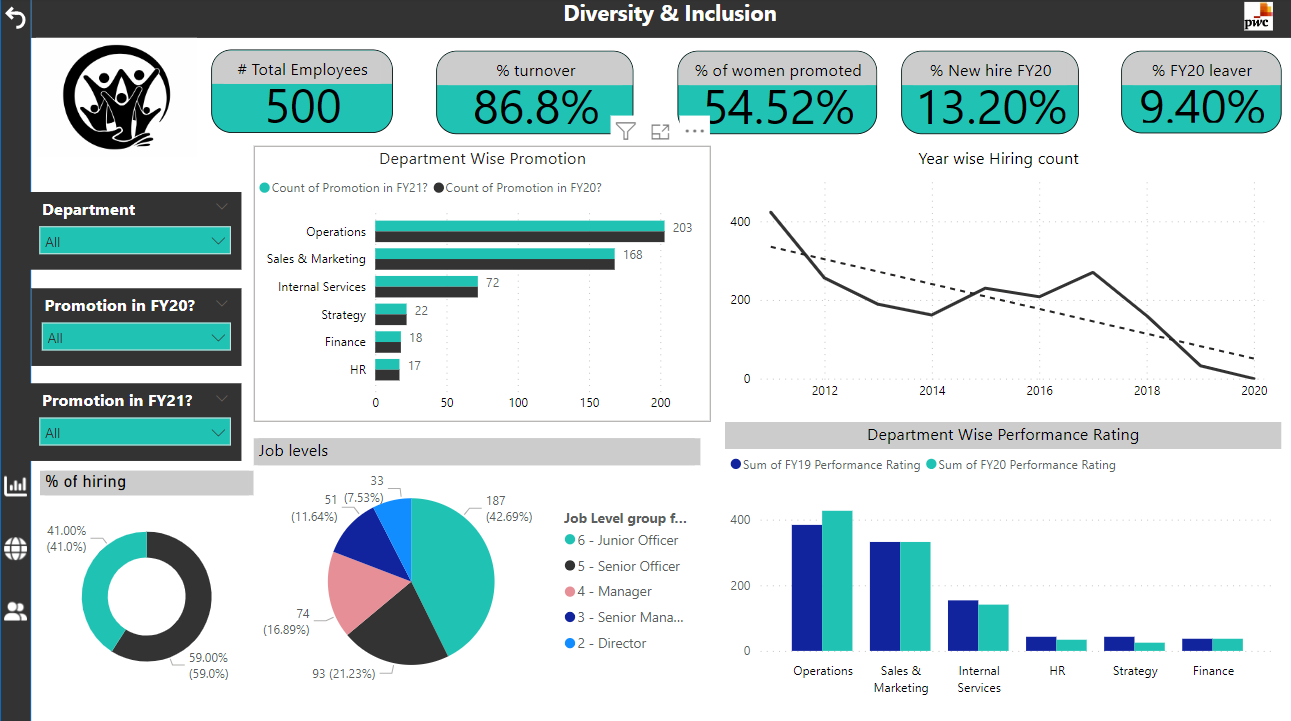

Layout of this report page (visuals, bound fields, positions):
{"tool":"powerbi","page":{"name":"Dashboard","canvas":[1280,720],"ordinal":0},"visuals":[{"type":"shape","box":[0,0,30.6,720],"z":0},{"type":"clusteredColumnChart","title":"Department Wise Performance Rating","fields":{"Category":["Pharma Group AG.Department @01.07.2020"],"Y":["Sum(Pharma Group AG.FY19 Performance Rating)","Sum(Pharma Group AG.FY20 Performance Rating)"]},"box":[709,415.6,544,275],"z":1000},{"type":"card","title":"% FY20 leaver","fields":{"Values":["Measure.% FY20 leaver"]},"box":[1096.5,52.6,156.5,80.7],"z":2000},{"type":"card","title":"% New hire FY20","fields":{"Values":["Measure.% New hire FY20"]},"box":[881.4,52.6,173.6,81.9],"z":3000},{"type":"lineChart","title":"Year wise Hiring count","fields":{"Category":["Pharma Group AG.Last hire date.Variation.Date Hierarchy.Year"],"Y":["Sum(Pharma Group AG.Years since last hire)"]},"box":[709,145.5,535.4,257.9],"z":4000},{"type":"card","title":"# Total Employees","fields":{"Values":["Measure.# total hire"]},"box":[206.6,51.3,177.2,81.9],"z":5000},{"type":"card","title":"% of women promoted","fields":{"Values":["Measure.% of women promoted"]},"box":[662.5,52.6,195.6,81.9],"z":6000},{"type":"slicer","fields":{"Values":["Pharma Group AG.Department @01.07.2020"]},"box":[28.1,190.7,207.8,75.8],"z":7000},{"type":"card","title":"% turnover","fields":{"Values":["Measure.% turnover"]},"box":[426.6,52.6,193.1,81.9],"z":8000},{"type":"donutChart","title":"% of hiring","fields":{"Y":["Measure.% of hires men","Measure.% of hires women"]},"box":[39.1,463.3,209,227.4],"z":9000},{"type":"slicer","fields":{"Values":["Pharma Group AG.Promotion in FY20?"]},"box":[30.6,284.2,205.4,75.8],"z":10000},{"type":"slicer","fields":{"Values":["Pharma Group AG.Promotion in FY21?"]},"box":[28.1,377.7,207.8,75.8],"z":11000},{"type":"clusteredBarChart","title":"Department Wise Promotion","fields":{"Category":["Pharma Group AG.Department @01.07.2020"],"Y":["CountNonNull(Pharma Group AG.Promotion in FY21?)","CountNonNull(Pharma Group AG.Promotion in FY20?)"]},"box":[248.1,145.5,447.4,270.2],"z":12000},{"type":"pieChart","title":"Job levels","fields":{"Category":["Pharma Group AG.Job Level group for PRA"],"Y":["CountNonNull(Pharma Group AG.Job Level group for PRA)"]},"box":[248.1,431.5,436.4,259.2],"z":13000},{"type":"textbox","box":[30.6,0,1249.3,40.3],"z":14000},{"type":"image","box":[30.6,15.9,166.2,163.8],"z":15000},{"type":"actionButton","box":[0,0,30.6,40.3],"z":16000},{"type":"actionButton","box":[0,458.4,30.6,40.3],"z":17000},{"type":"actionButton","box":[0,519.5,30.6,40.3],"z":18000},{"type":"actionButton","box":[0,580.6,30.6,40.3],"z":19000},{"type":"image","box":[1180.8,0,99,37.9],"z":20000}]}

Visuals, with their boxes on the page's 1280x720 design canvas (x1, y1, x2, y2). These are canvas units, not pixel positions in the 1291x721 screenshot, which may show the page scaled, cropped or inside an application window:
shape: 0:0:31:720
"Department Wise Performance Rating" clusteredColumnChart: 709:416:1253:691
"% FY20 leaver" card: 1096:53:1253:133
"% New hire FY20" card: 881:53:1055:134
"Year wise Hiring count" lineChart: 709:146:1244:403
"# Total Employees" card: 207:51:384:133
"% of women promoted" card: 662:53:858:134
slicer - Pharma Group AG.Department @01.07.2020: 28:191:236:266
"% turnover" card: 427:53:620:134
"% of hiring" donutChart: 39:463:248:691
slicer - Pharma Group AG.Promotion in FY20?: 31:284:236:360
slicer - Pharma Group AG.Promotion in FY21?: 28:378:236:454
"Department Wise Promotion" clusteredBarChart: 248:146:696:416
"Job levels" pieChart: 248:432:684:691
textbox: 31:0:1280:40
image: 31:16:197:180
actionButton: 0:0:31:40
actionButton: 0:458:31:499
actionButton: 0:520:31:560
actionButton: 0:581:31:621
image: 1181:0:1280:38
